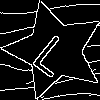L: (30, 26, 82, 79)
